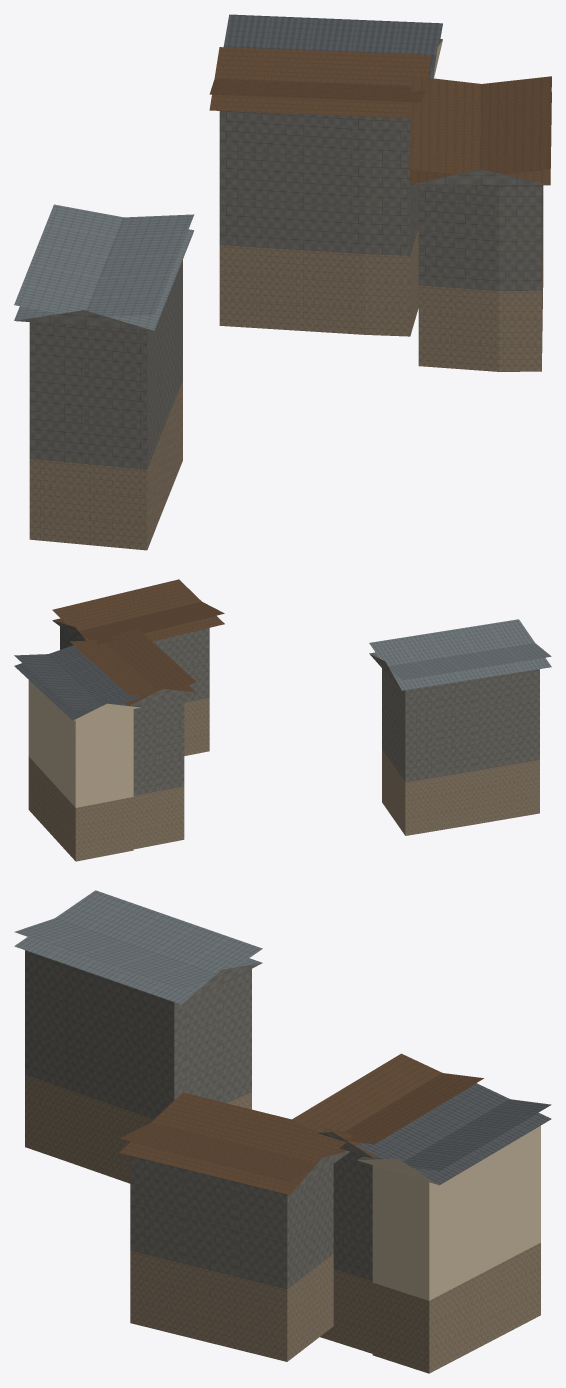
The model's file is bld_c40_-49_463.gltf.
3 views of the same model, one above another, from view 1: azimuth 30°, elevation 25°; view 2: azimuth 150°, elevation 25°; view 3: azimuth 270°, elevation 25° (orthographic). The views are drawn at different scales.
Visible parts, largest first — view 1: bld_c40_-49_463; view 2: bld_c40_-49_463; view 3: bld_c40_-49_463.
Boxes of the visible parts, bbox=[...] form: bld_c40_-49_463: bbox=[14, 14, 551, 550]; bld_c40_-49_463: bbox=[14, 579, 551, 861]; bld_c40_-49_463: bbox=[14, 890, 551, 1373].
Bounding box in the file's own units: 42.6 × 15.3 × 34.16.
8 materials, 8 textured.
